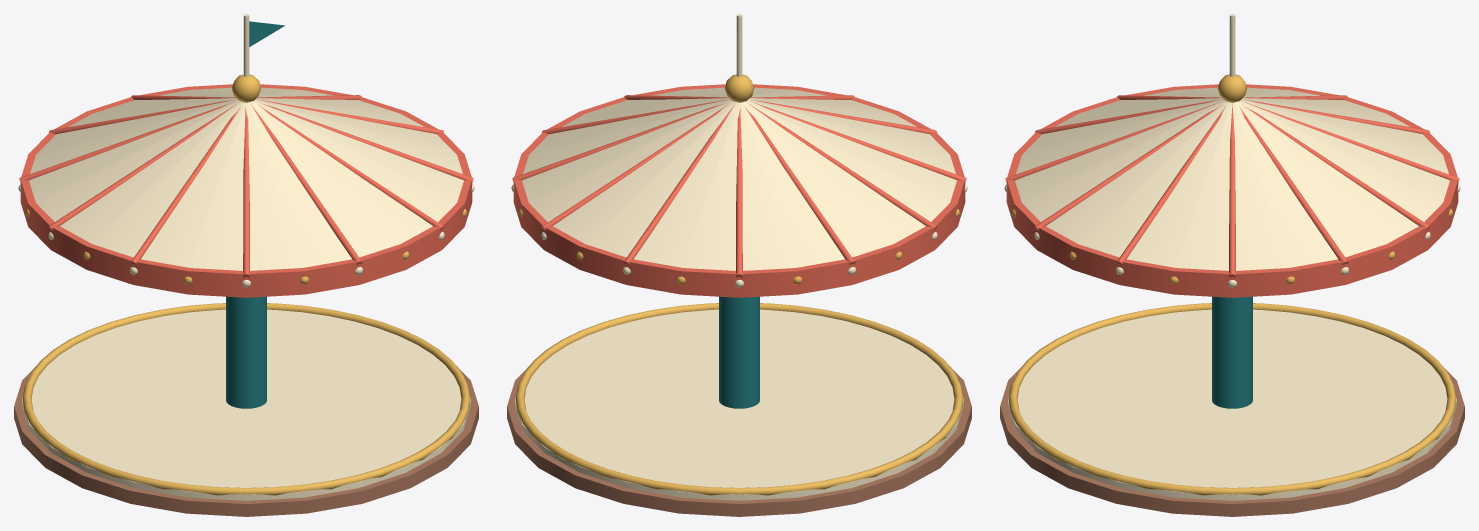
Rendered from ride_carousel.glb.
3 renders of one model, left to right at view 1: azimuth 30°, elevation 25°; view 2: azimuth 150°, elevation 25°; view 3: azimuth 270°, elevation 25°, orthographic.
Visible parts, largest first — view 1: ride_carousel; view 2: ride_carousel; view 3: ride_carousel.
Part boxes in pixels (left/top/right/bottom): ride_carousel: left=14, top=14, right=478, bottom=516; ride_carousel: left=507, top=14, right=971, bottom=516; ride_carousel: left=1000, top=14, right=1464, bottom=516.
Size of the model in its own units: 7.2 by 6.9 by 7.2.
